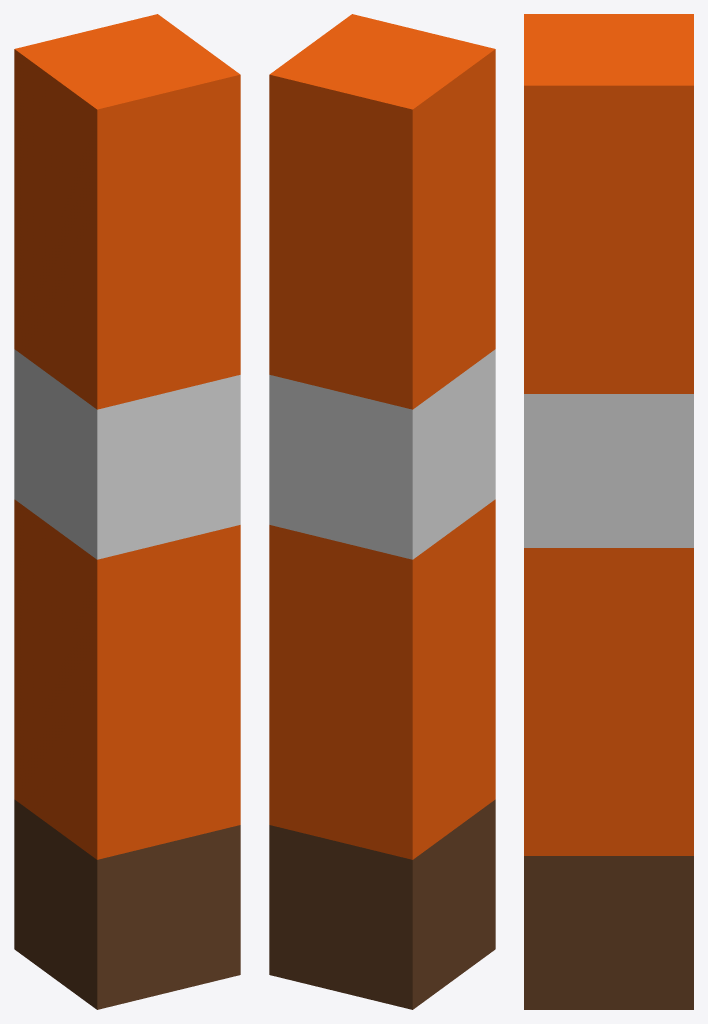
File: arm3.obj
3 views of the same model, side by side, from view 1: azimuth 30°, elevation 25°; view 2: azimuth 150°, elevation 25°; view 3: azimuth 270°, elevation 25° (orthographic). The views are drawn at different scales.
Size of the model in its own units: 0.2 by 1.2 by 0.2.
Materials: 1 (1 with a texture image).
